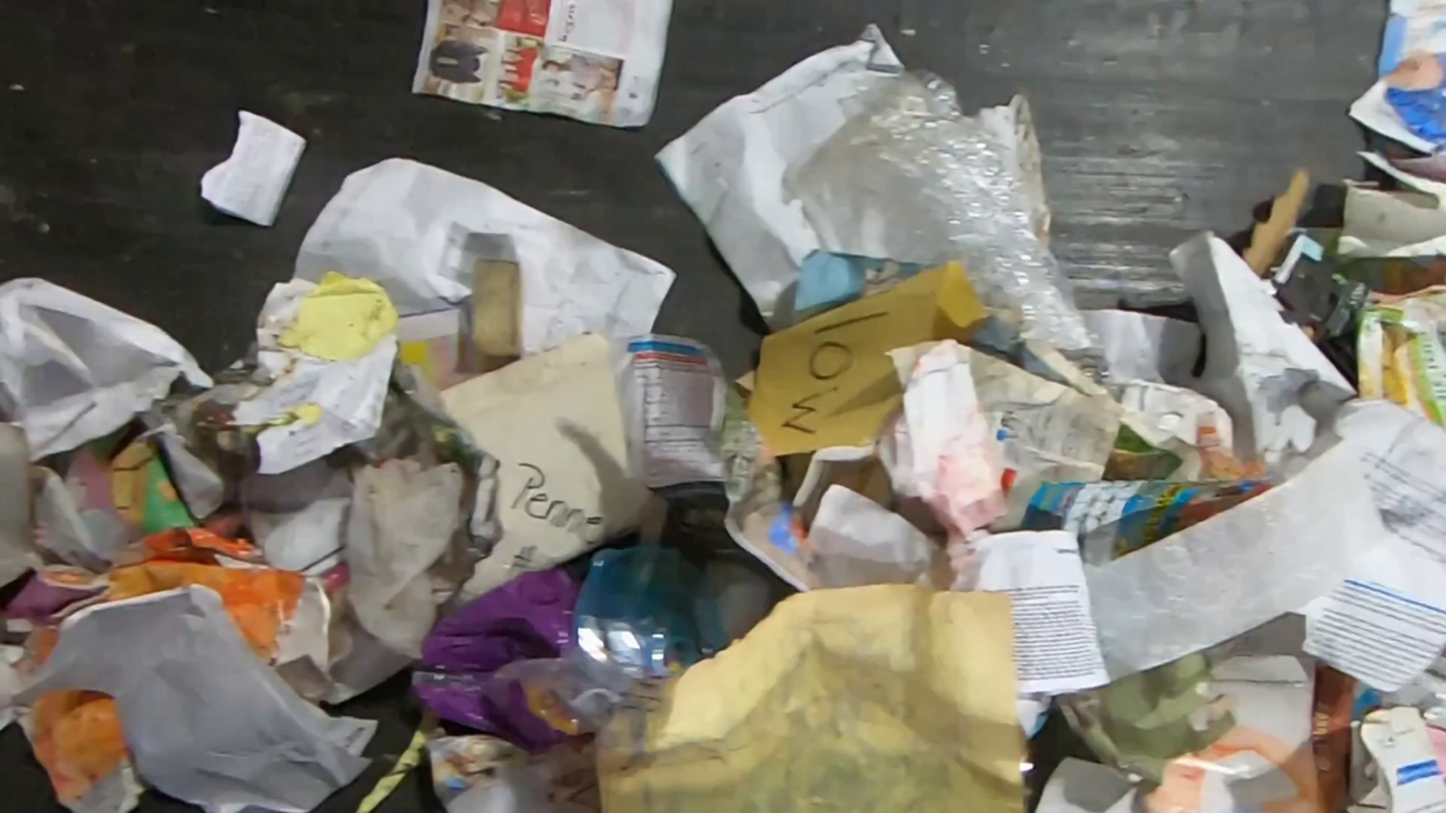cardboard: (1356, 283, 1446, 434), (1240, 167, 1314, 279), (467, 255, 523, 359)
plastic: (782, 67, 1103, 358), (564, 480, 805, 690), (407, 563, 584, 757)
